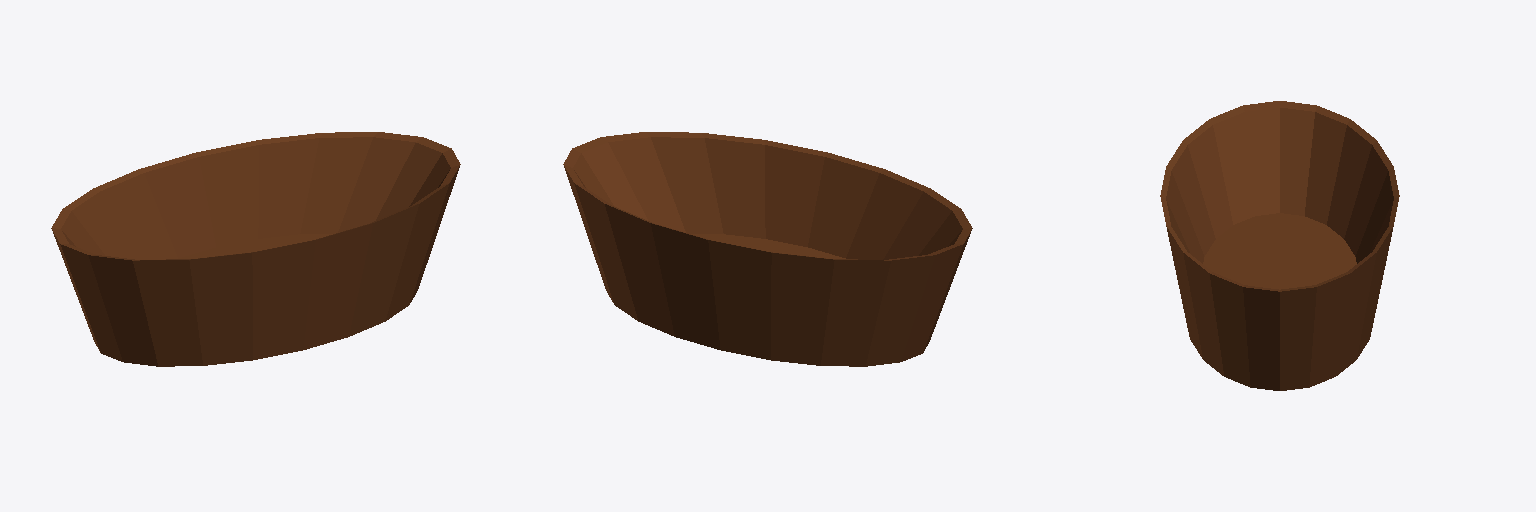
The model's file is other1(F62).obj.
The picture shows the model from 3 angles: view 1: azimuth 30°, elevation 25°; view 2: azimuth 150°, elevation 25°; view 3: azimuth 270°, elevation 25°; orthographic projection.
Visible parts, largest first — view 1: Cylinder.005; view 2: Cylinder.005; view 3: Cylinder.005.
Part boxes in pixels (x1,y1,x2,y2): Cylinder.005: (51, 132, 460, 366); Cylinder.005: (563, 132, 972, 366); Cylinder.005: (1160, 101, 1399, 390).
Bounding box in the file's own units: 3.83 × 1.12 × 2.03.